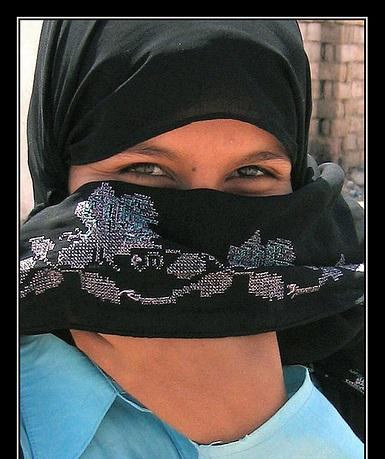OK: (78, 118, 293, 333)
